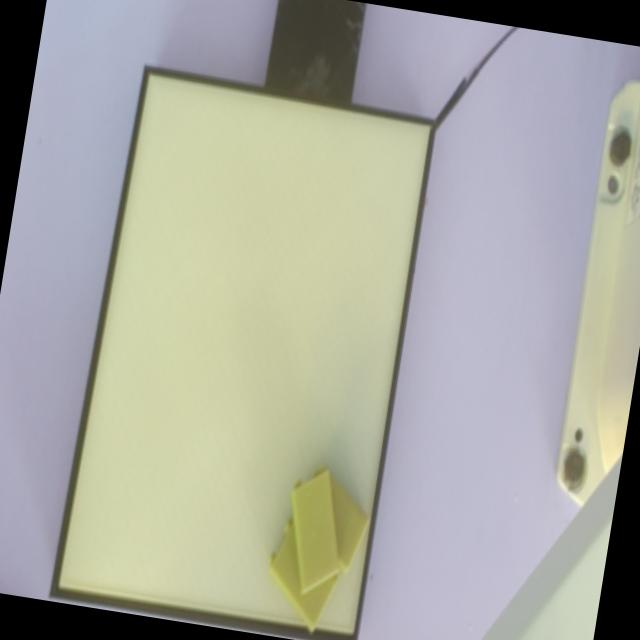bateria: (291, 465, 340, 593)
mesa: (50, 65, 438, 640)
